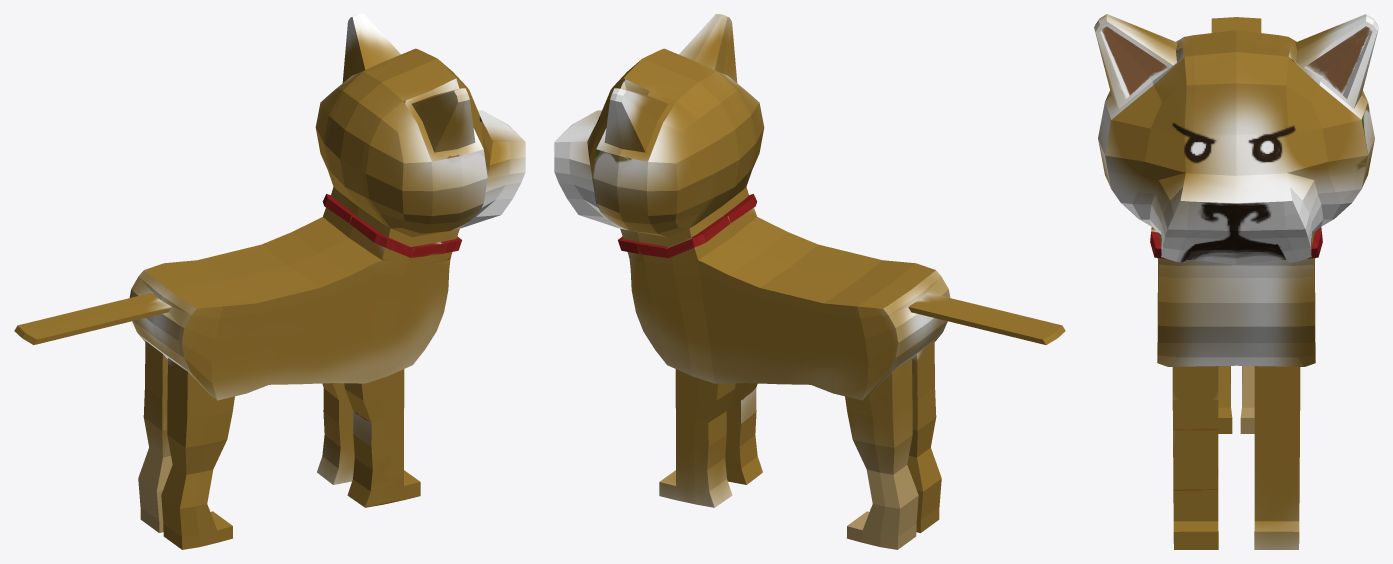
The model's file is Perro.fbx.
3 renders of one model, left to right at view 1: azimuth 30°, elevation 25°; view 2: azimuth 150°, elevation 25°; view 3: azimuth 270°, elevation 25°, orthographic. The views are drawn at different scales.
Visible parts, largest first — view 1: Cube; view 2: Cube; view 3: Cube.
Boxes of the visible parts, <box> form: Cube: <box>14,14,525,549</box>; Cube: <box>554,14,1065,549</box>; Cube: <box>1094,14,1378,549</box>.
Bounding box in the file's own units: 245 × 204 × 97.24.
Materials: 1 (1 with a texture image).
